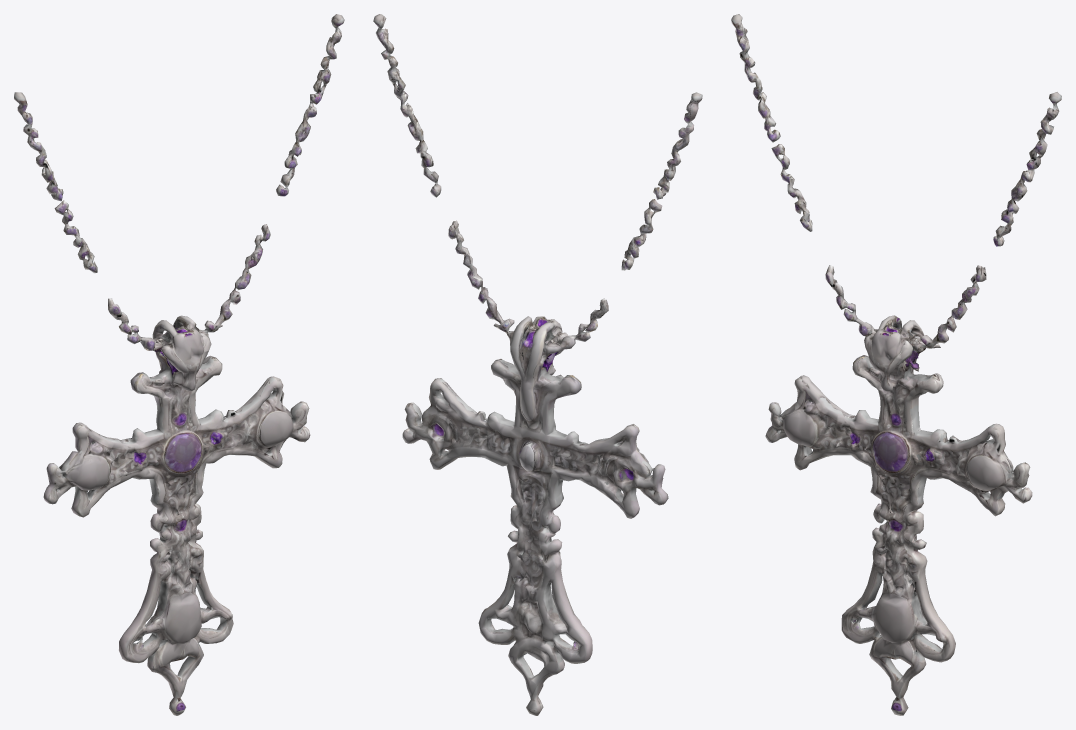
Rendered from Chunky_Cross_Pendant_0626081431_texture.glb.
3 renders of one model, left to right at view 1: azimuth 30°, elevation 25°; view 2: azimuth 150°, elevation 25°; view 3: azimuth 330°, elevation 25°, orthographic.
Size of the model in its own units: 1.04 by 2 by 0.1605.
Materials: 1 (1 with a texture image).
